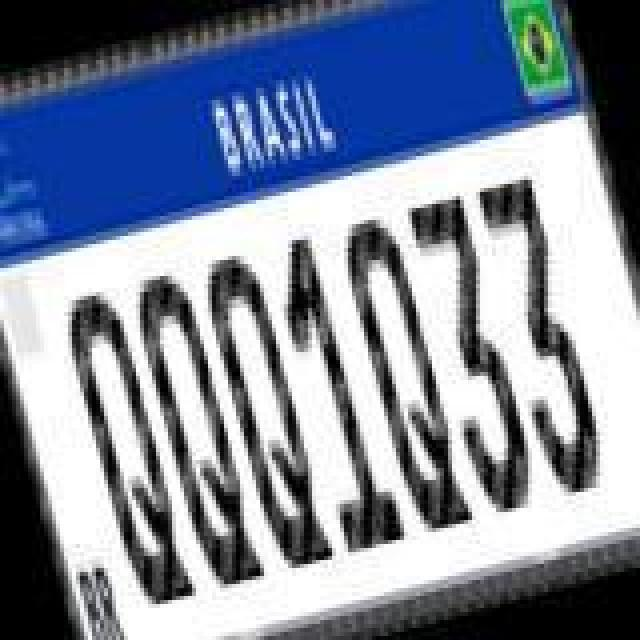1: (264, 228, 408, 556)
3: (466, 172, 614, 508), (400, 188, 544, 524)
Q: (56, 282, 200, 614), (192, 242, 336, 574), (332, 202, 476, 534), (124, 264, 268, 592)
